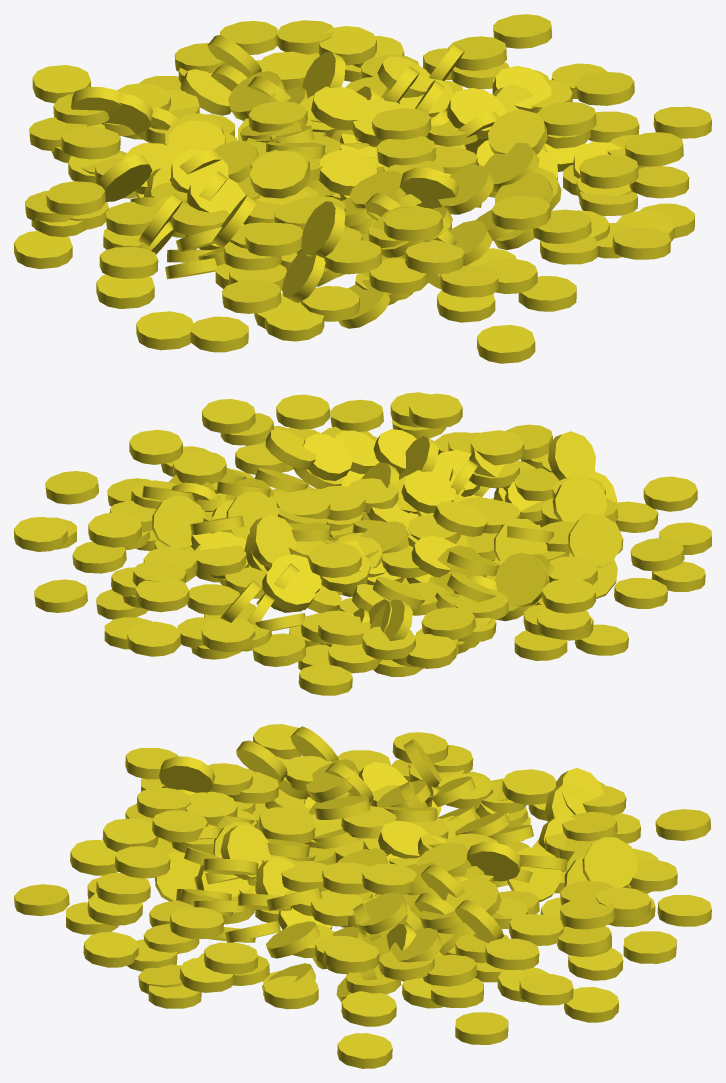
Rendered from coins.fbx.
3 views of the same model, one above another, from view 1: azimuth 30°, elevation 25°; view 2: azimuth 150°, elevation 25°; view 3: azimuth 270°, elevation 25° (orthographic). The views are drawn at different scales.
Visible parts, largest first — view 1: Coins.002; view 2: Coins.002; view 3: Coins.002.
Part boxes in pixels (box(x1,y1,x2,y2)): Coins.002: box(14, 14, 711, 363); Coins.002: box(14, 392, 711, 695); Coins.002: box(14, 724, 711, 1068).
Bounding box in the file's own units: 495 × 83.71 × 485.
